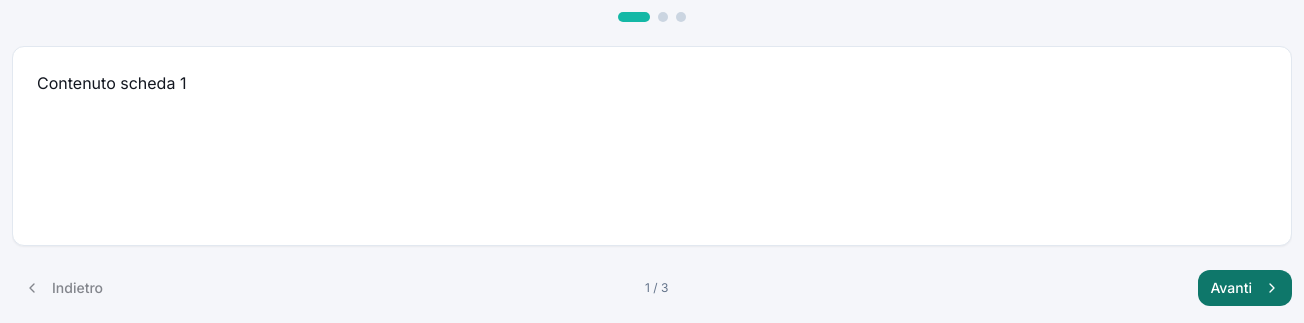
Test case: StoryCard › naviga avanti con pulsante Avanti
Click the button "Avanti" at (1245, 288), box [1198, 270, 1292, 306]
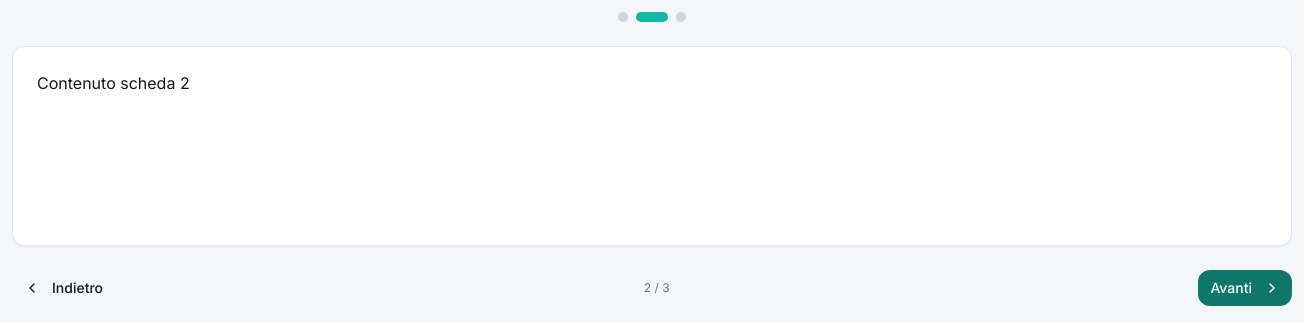
Now the text "Contenuto scheda 2" is shown, box [37, 73, 190, 93]
Now the text "2 / 3" is shown, box [644, 280, 670, 296]
